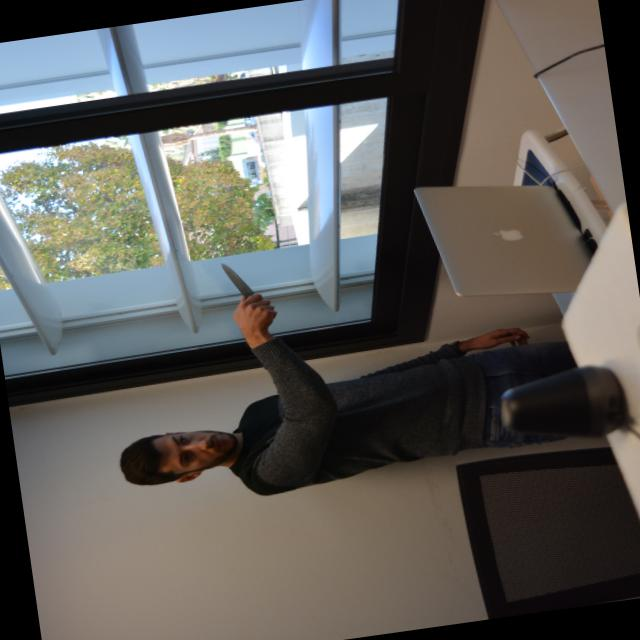knife: (218, 255, 262, 309)
